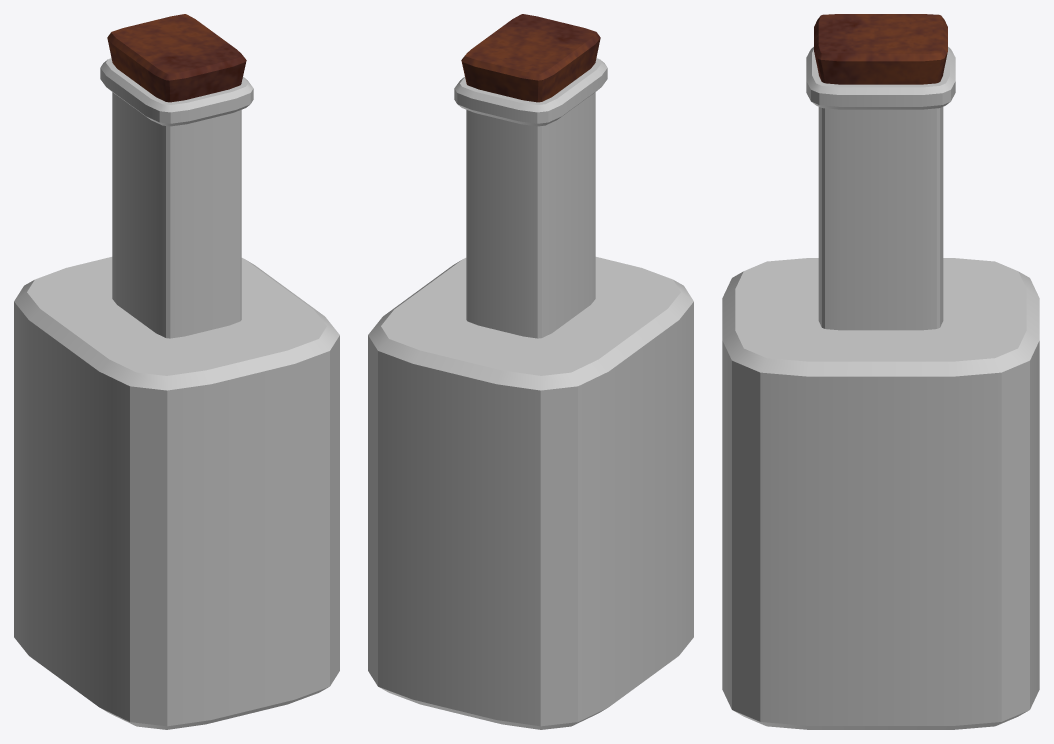
Rendered from Bottle5_Magnant_Grace.FBX.
The picture shows the model from 3 angles, left to right: view 1: azimuth 30°, elevation 25°; view 2: azimuth 150°, elevation 25°; view 3: azimuth 270°, elevation 25°; orthographic projection. The views are drawn at different scales.
Parts seen in each view (by area): view 1: Test; view 2: Test; view 3: Test.
Boxes of the visible parts, x1,y1,x2,y2 form: Test: (14,14,339,729); Test: (368,14,693,729); Test: (722,14,1039,729).
Size of the model in its own units: 12 by 31.44 by 14.02.
